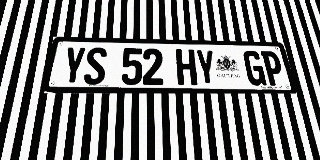2: (143, 48, 163, 85)
5: (122, 48, 142, 85)
G: (242, 50, 267, 85)
H: (176, 49, 197, 85)
P: (260, 51, 286, 86)
S: (83, 47, 107, 85)
Y: (61, 47, 86, 85), (195, 49, 217, 85)
